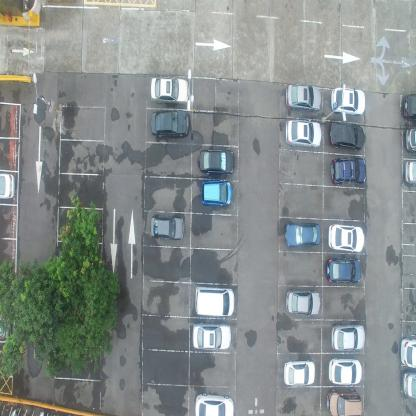car: (194, 284, 235, 318), (283, 115, 322, 148), (328, 222, 366, 254), (192, 322, 232, 352), (150, 76, 189, 106), (150, 109, 189, 138), (330, 156, 367, 186), (285, 82, 322, 112), (330, 86, 366, 116), (329, 122, 365, 152), (330, 322, 366, 352), (286, 288, 321, 318), (328, 356, 362, 386), (149, 212, 184, 241), (326, 257, 362, 285), (326, 388, 362, 415), (195, 391, 233, 416), (284, 221, 320, 247), (199, 148, 235, 174), (200, 178, 232, 207), (284, 359, 316, 387), (400, 336, 416, 369), (0, 172, 15, 201), (402, 92, 416, 121), (402, 371, 416, 400), (404, 158, 416, 186), (405, 126, 415, 152)
